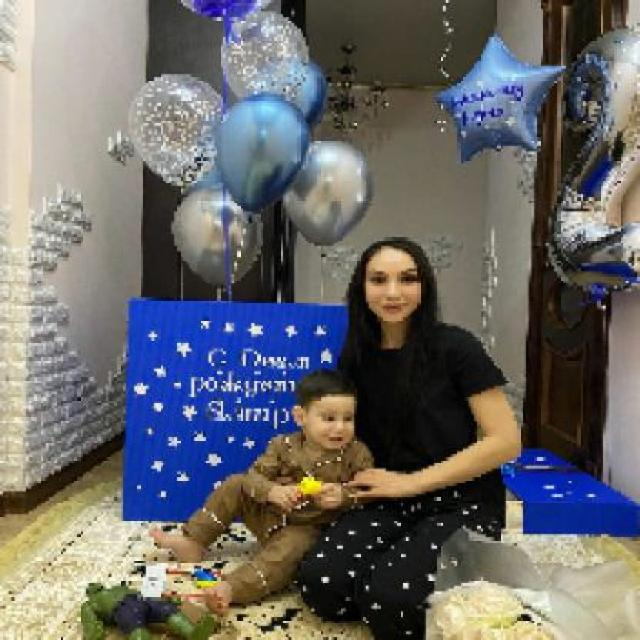child: (152, 368, 374, 614)
